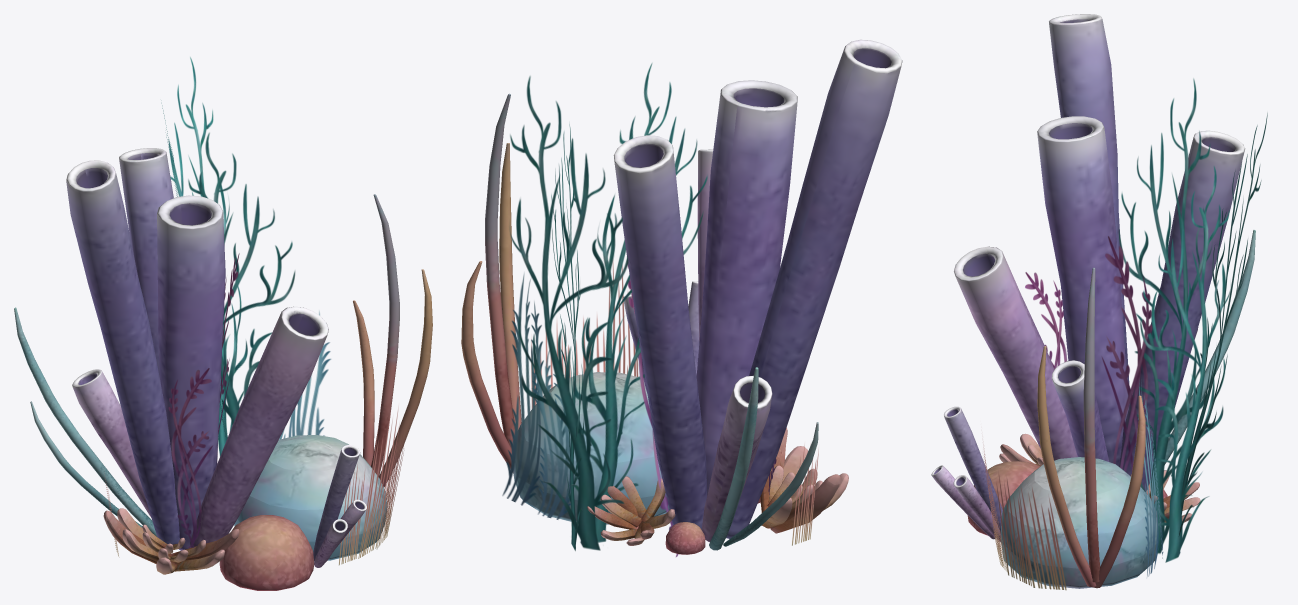
File: coral_piece.glb
3 views of the same model, side by side, from view 1: azimuth 30°, elevation 25°; view 2: azimuth 150°, elevation 25°; view 3: azimuth 270°, elevation 25° (orthographic). The views are drawn at different scales.
Parts seen in each view (by area): view 1: polySurface267, polySurface223; view 2: polySurface267, polySurface223; view 3: polySurface267, polySurface223.
Boxes of the visible parts, <box> form: polySurface267: <box>14,148,432,590</box>; polySurface223: <box>105,57,405,565</box>; polySurface267: <box>461,39,902,554</box>; polySurface223: <box>502,63,818,556</box>; polySurface267: <box>931,14,1255,588</box>; polySurface223: <box>983,78,1267,590</box>.
Bounding box in the file's own units: 3.09 × 4.06 × 2.64.
2 materials, 2 textured.
